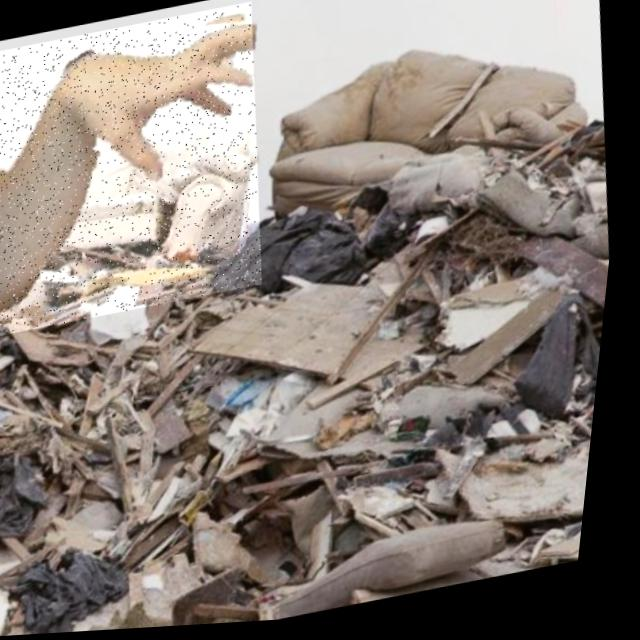Person in Rubble: (0, 2, 292, 342)
